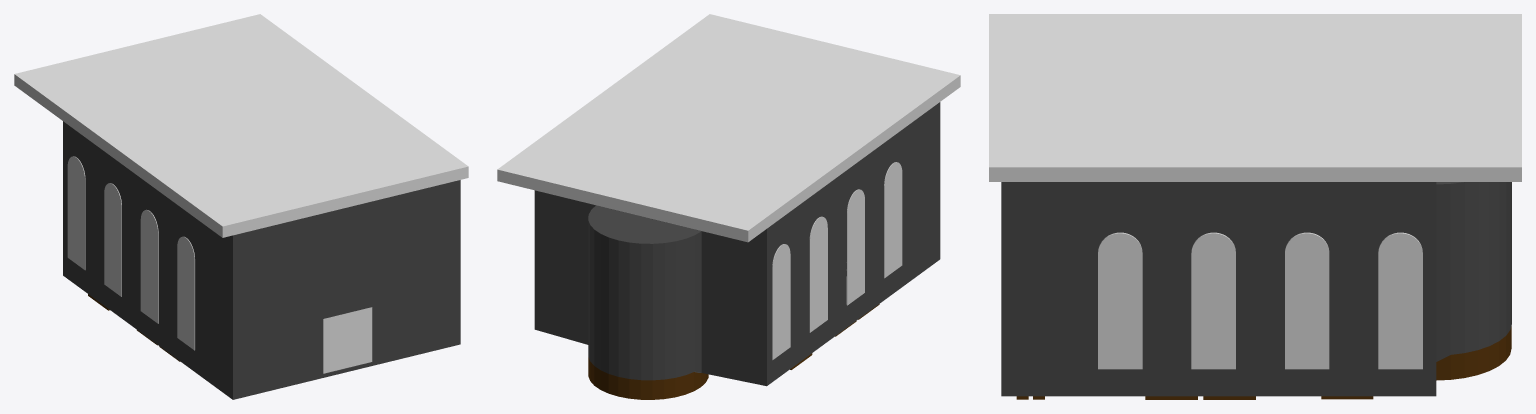
File: LargeRoom2.fbx
The picture shows the model from 3 angles, left to right: view 1: azimuth 30°, elevation 25°; view 2: azimuth 150°, elevation 25°; view 3: azimuth 270°, elevation 25°; orthographic projection. The views are drawn at different scales.
Visible parts, largest first — view 1: Roof.001, Church, Cube.001, Original; view 2: Roof.001, Church, Cube.001, Cylinder.004; view 3: Roof.001, Church, Cube, Cylinder.004.
Part boxes in pixels (left/top/right/bottom): Roof.001: left=14, top=14, right=468, bottom=237; Church: left=63, top=121, right=460, bottom=399; Cube.001: left=67, top=156, right=194, bottom=350; Original: left=76, top=157, right=372, bottom=373; Roof.001: left=497, top=14, right=960, bottom=242; Church: left=534, top=102, right=940, bottom=386; Cube.001: left=772, top=162, right=902, bottom=359; Cylinder.004: left=588, top=357, right=708, bottom=399; Roof.001: left=989, top=14, right=1521, bottom=181; Church: left=1001, top=182, right=1511, bottom=396; Cube: left=1098, top=232, right=1422, bottom=369; Cylinder.004: left=1436, top=326, right=1511, bottom=380.
Size of the model in its own units: 3265 by 2505 by 4789.
